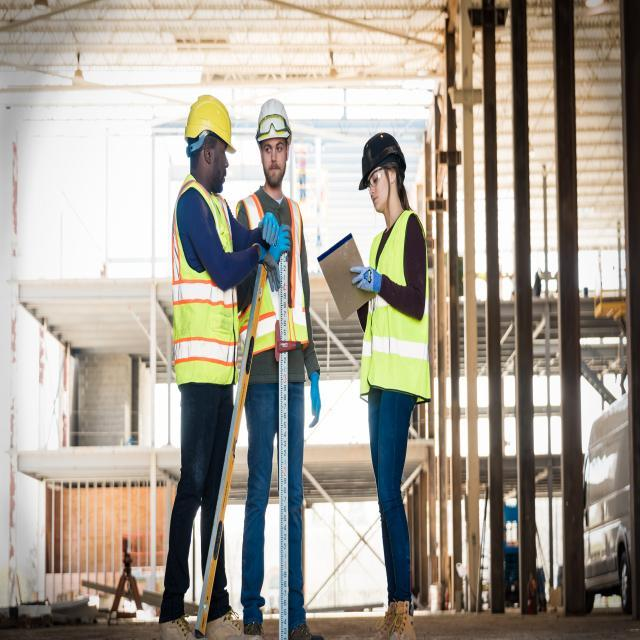Vest: (169, 182, 239, 384), (362, 213, 439, 395)
